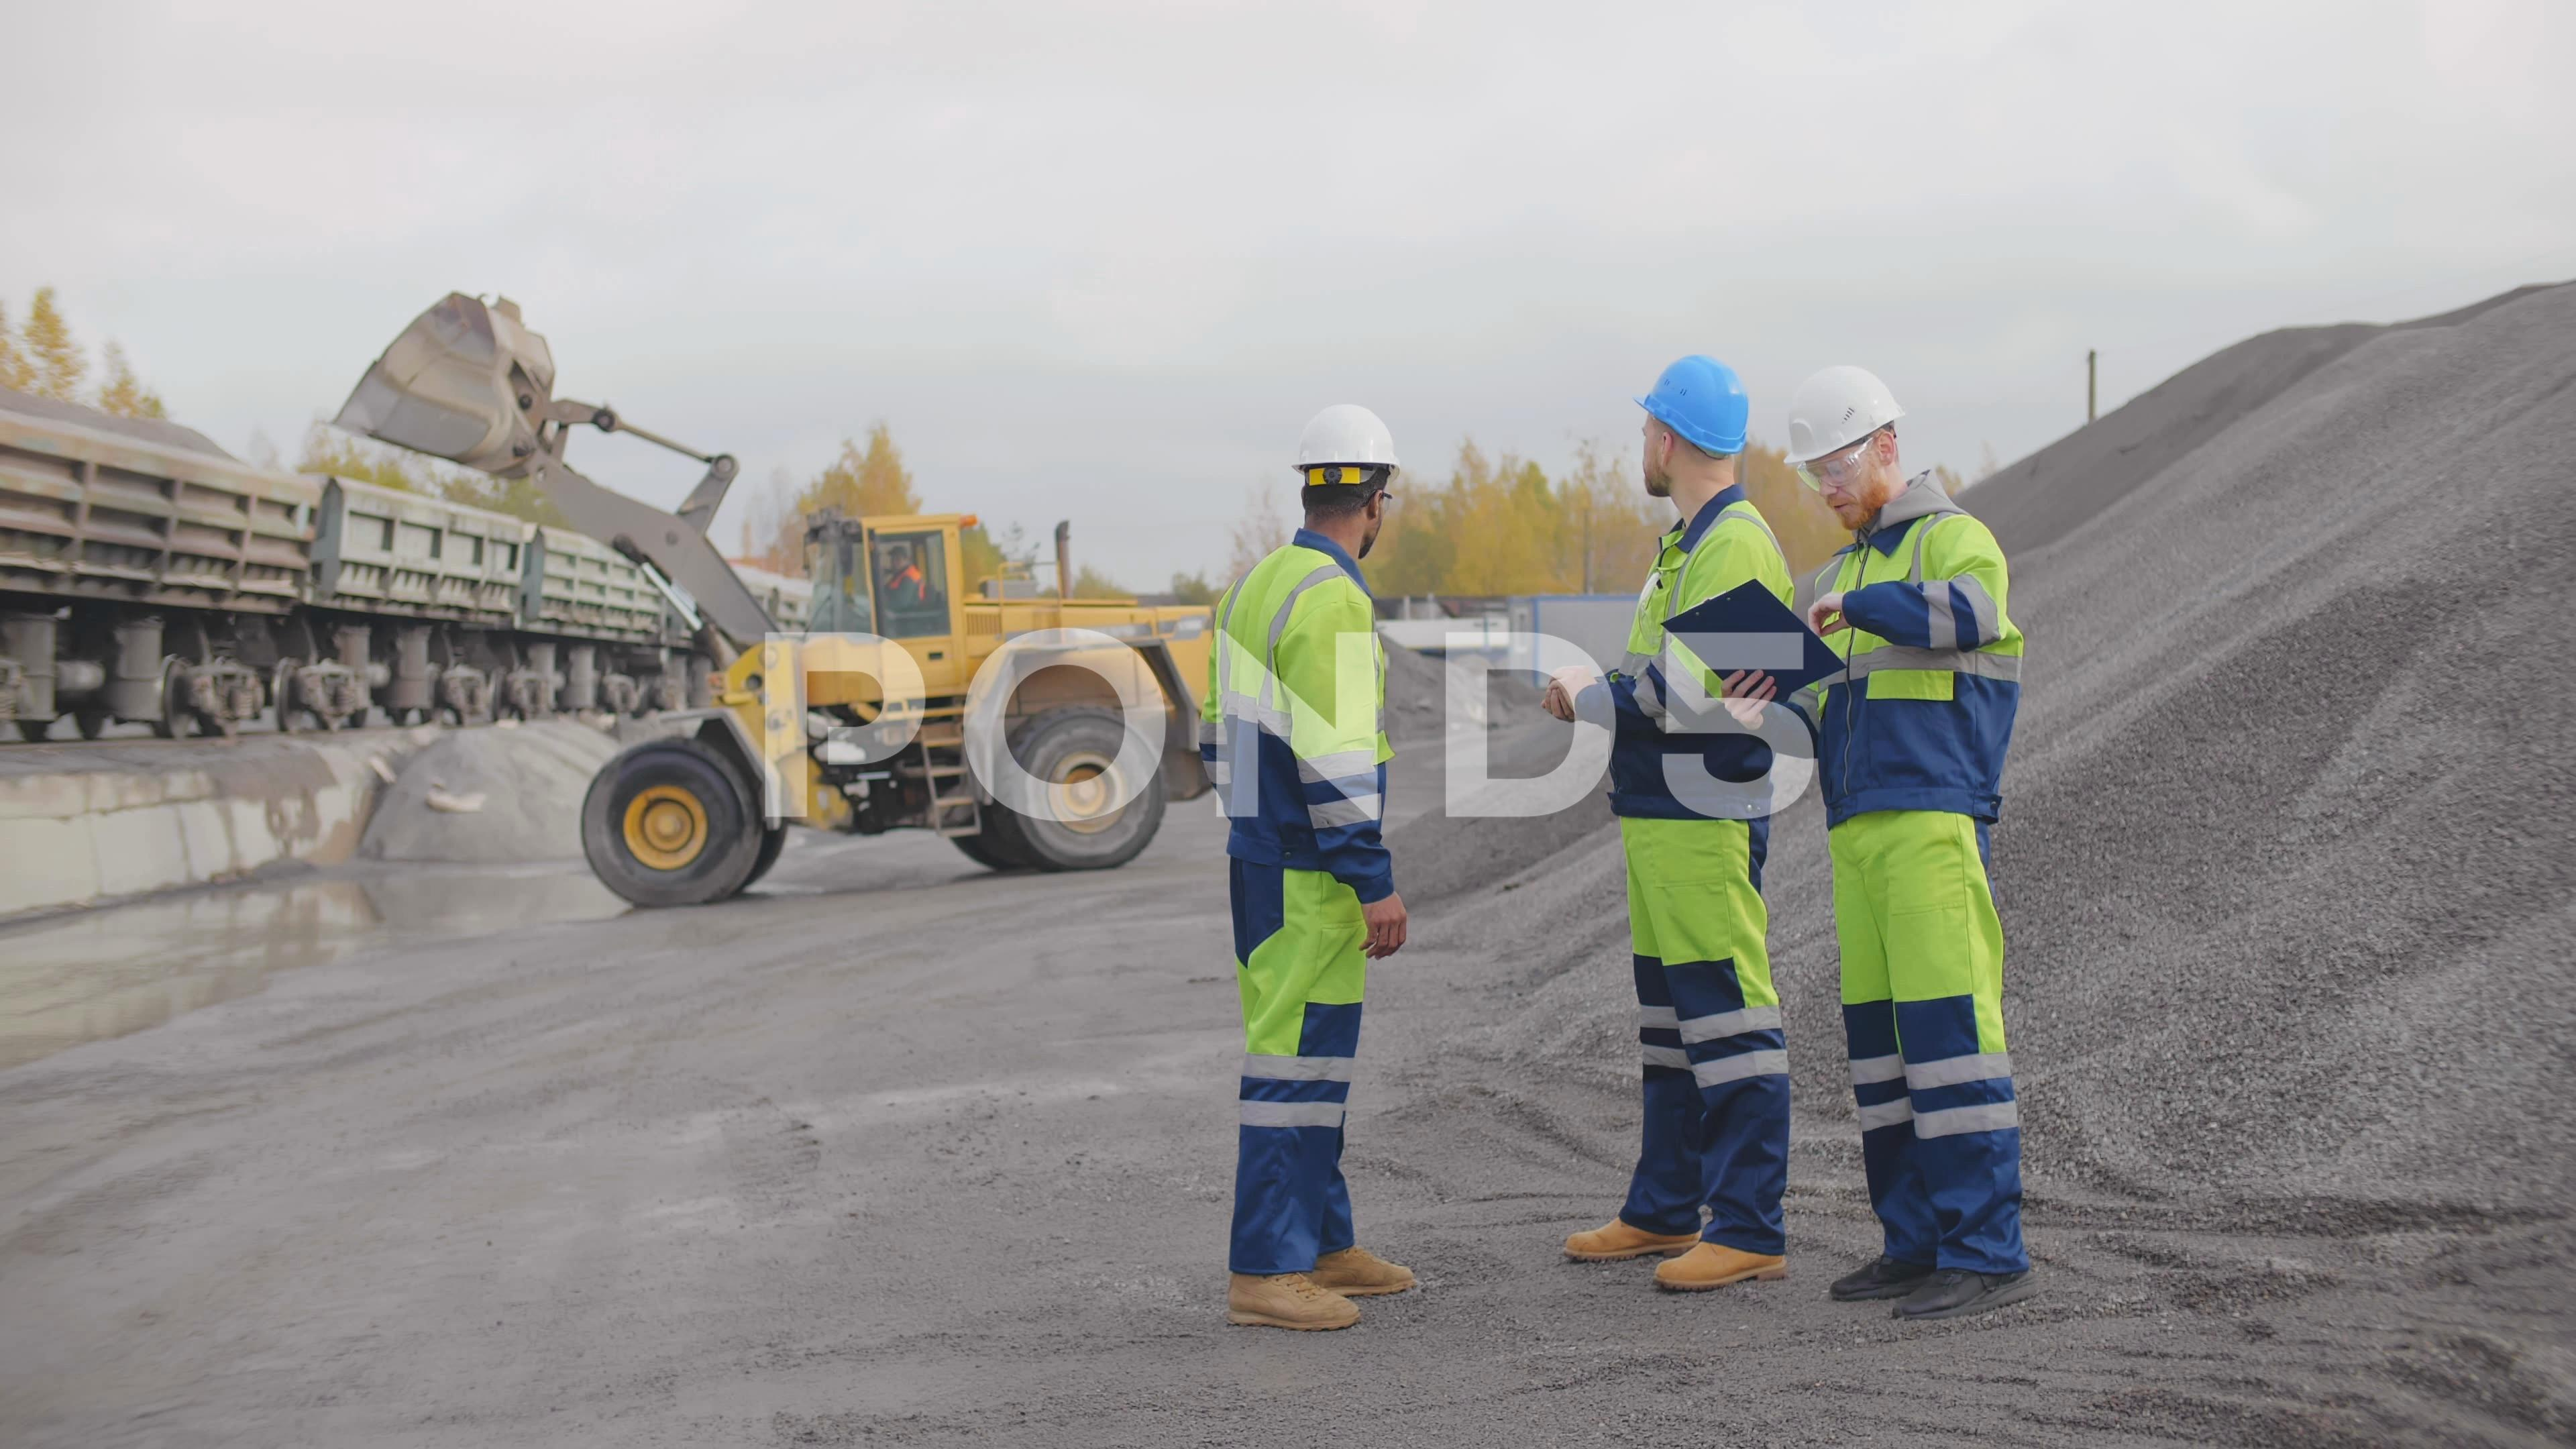hat: (1258, 346, 1440, 564), (1597, 313, 1778, 524), (1772, 329, 1926, 544)
no vest: (1111, 514, 1463, 933), (1778, 450, 2030, 876), (1554, 531, 1799, 873)
